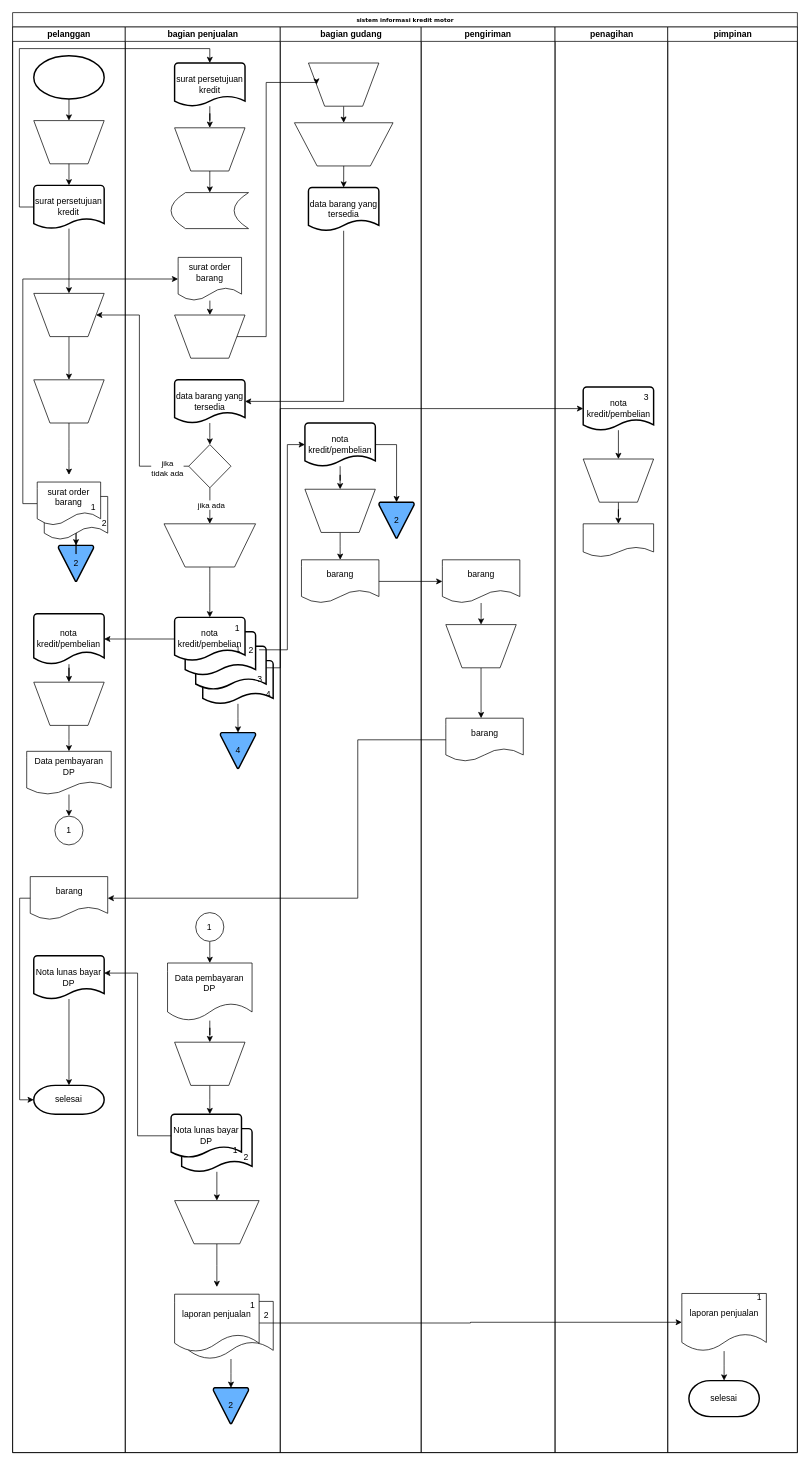
The diagram is 810 pixels wide and 1465 high, and some of its shapes have lost their labels. Here are the shapes that lost their labels. From the top down, the centre of each, then its label:
(69,77): start
(343,84): mengecek ketersedian barang
(68,142): melengkapi persyaratan kredit
(209,149): memasukan data kredit
(343,144): membuat catatan ketersediaan barang
(209,210): arsi[p data
(68,315): memilih barang/motor
(209,336): melakukan pengecekan barang
(68,401): melakukan order barang
(618,480): melakukan pengarsipan
(339,510): menyiapkan barang
(209,545): membuat nota kredit/angsuran
(618,540): arsip nasabah
(480,646): melakukan pengiriman
(68,703): membayar DP barang
(209,1063): Membuat Nota kelunasan bayar DP
(216,1222): membuatlaporan penjualan
